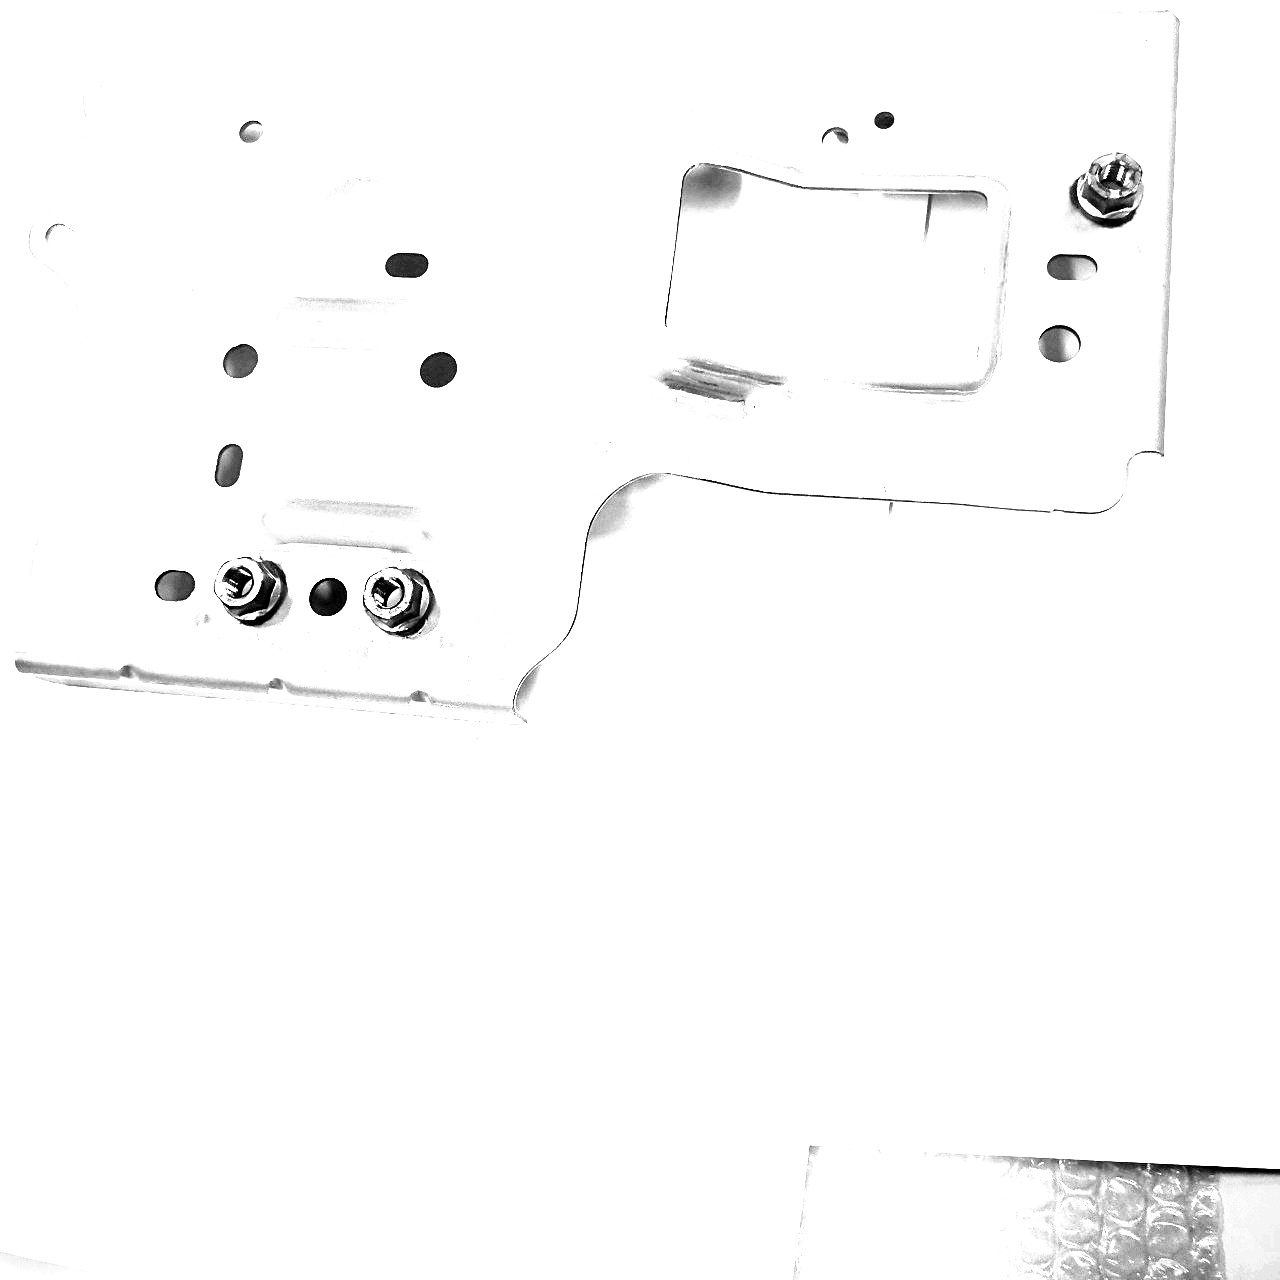dog: (354, 564, 442, 642), (1064, 147, 1146, 230), (210, 554, 292, 628)
